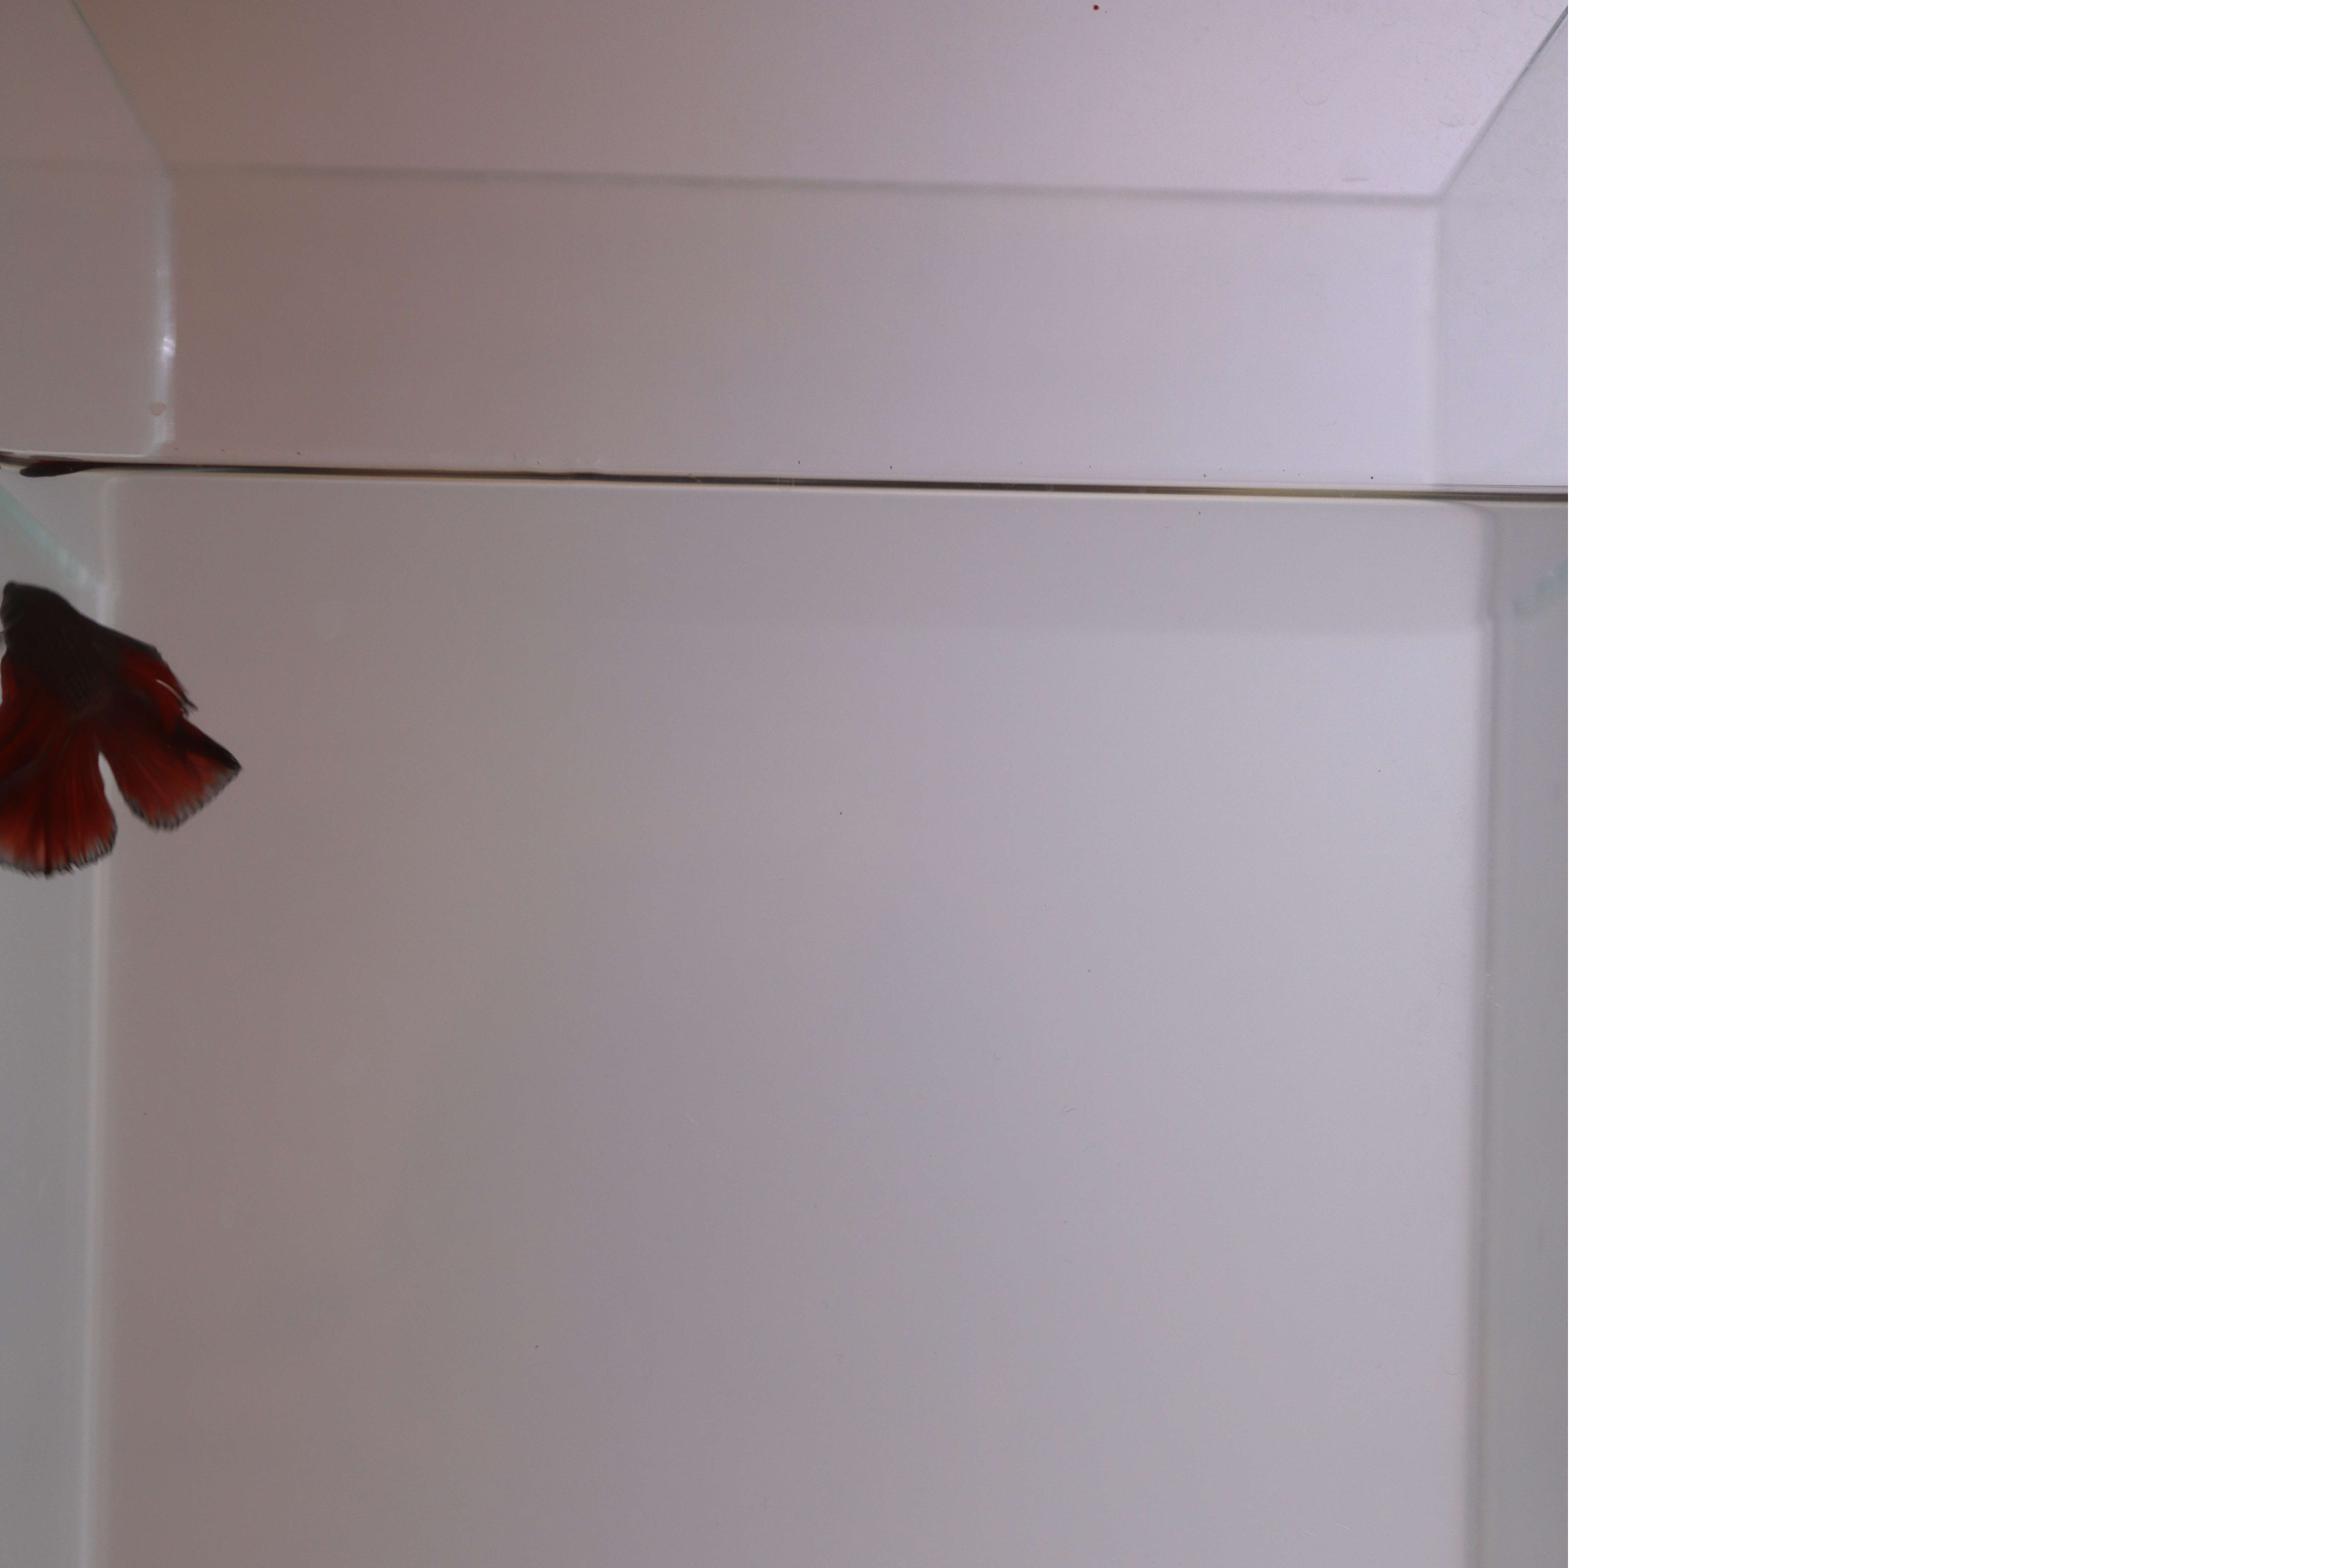fish: (0, 581, 250, 893)
